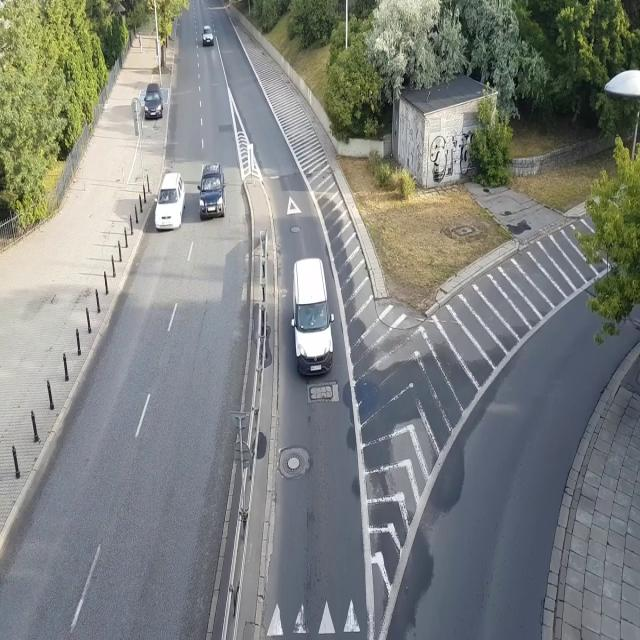car: (153, 171, 186, 232), (198, 163, 226, 222), (144, 80, 163, 120), (200, 24, 214, 48)
van: (288, 258, 336, 383)
